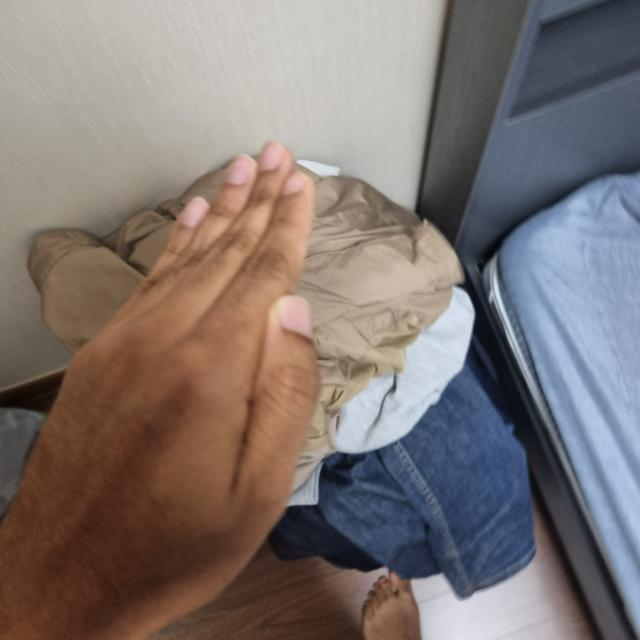Paper: (12, 141, 325, 627)
